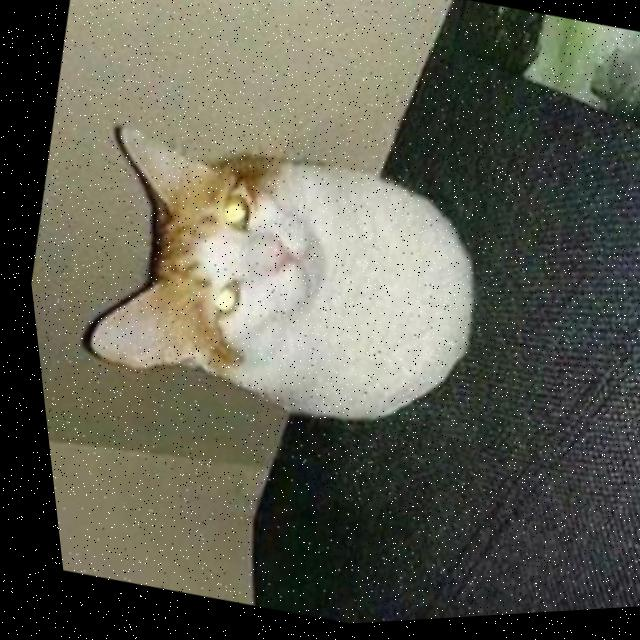Cats: (25, 87, 525, 500)
